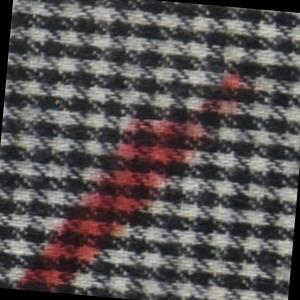Stain: (13, 47, 263, 300)
